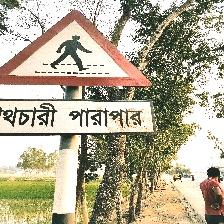Pedestrian-crossing: (0, 8, 154, 138)
